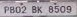character: (14, 4, 21, 14), (20, 5, 27, 13), (36, 5, 43, 13), (59, 5, 66, 13), (65, 5, 72, 13), (3, 5, 9, 14), (30, 4, 36, 13), (8, 5, 14, 13), (47, 5, 53, 13), (54, 4, 59, 13)
